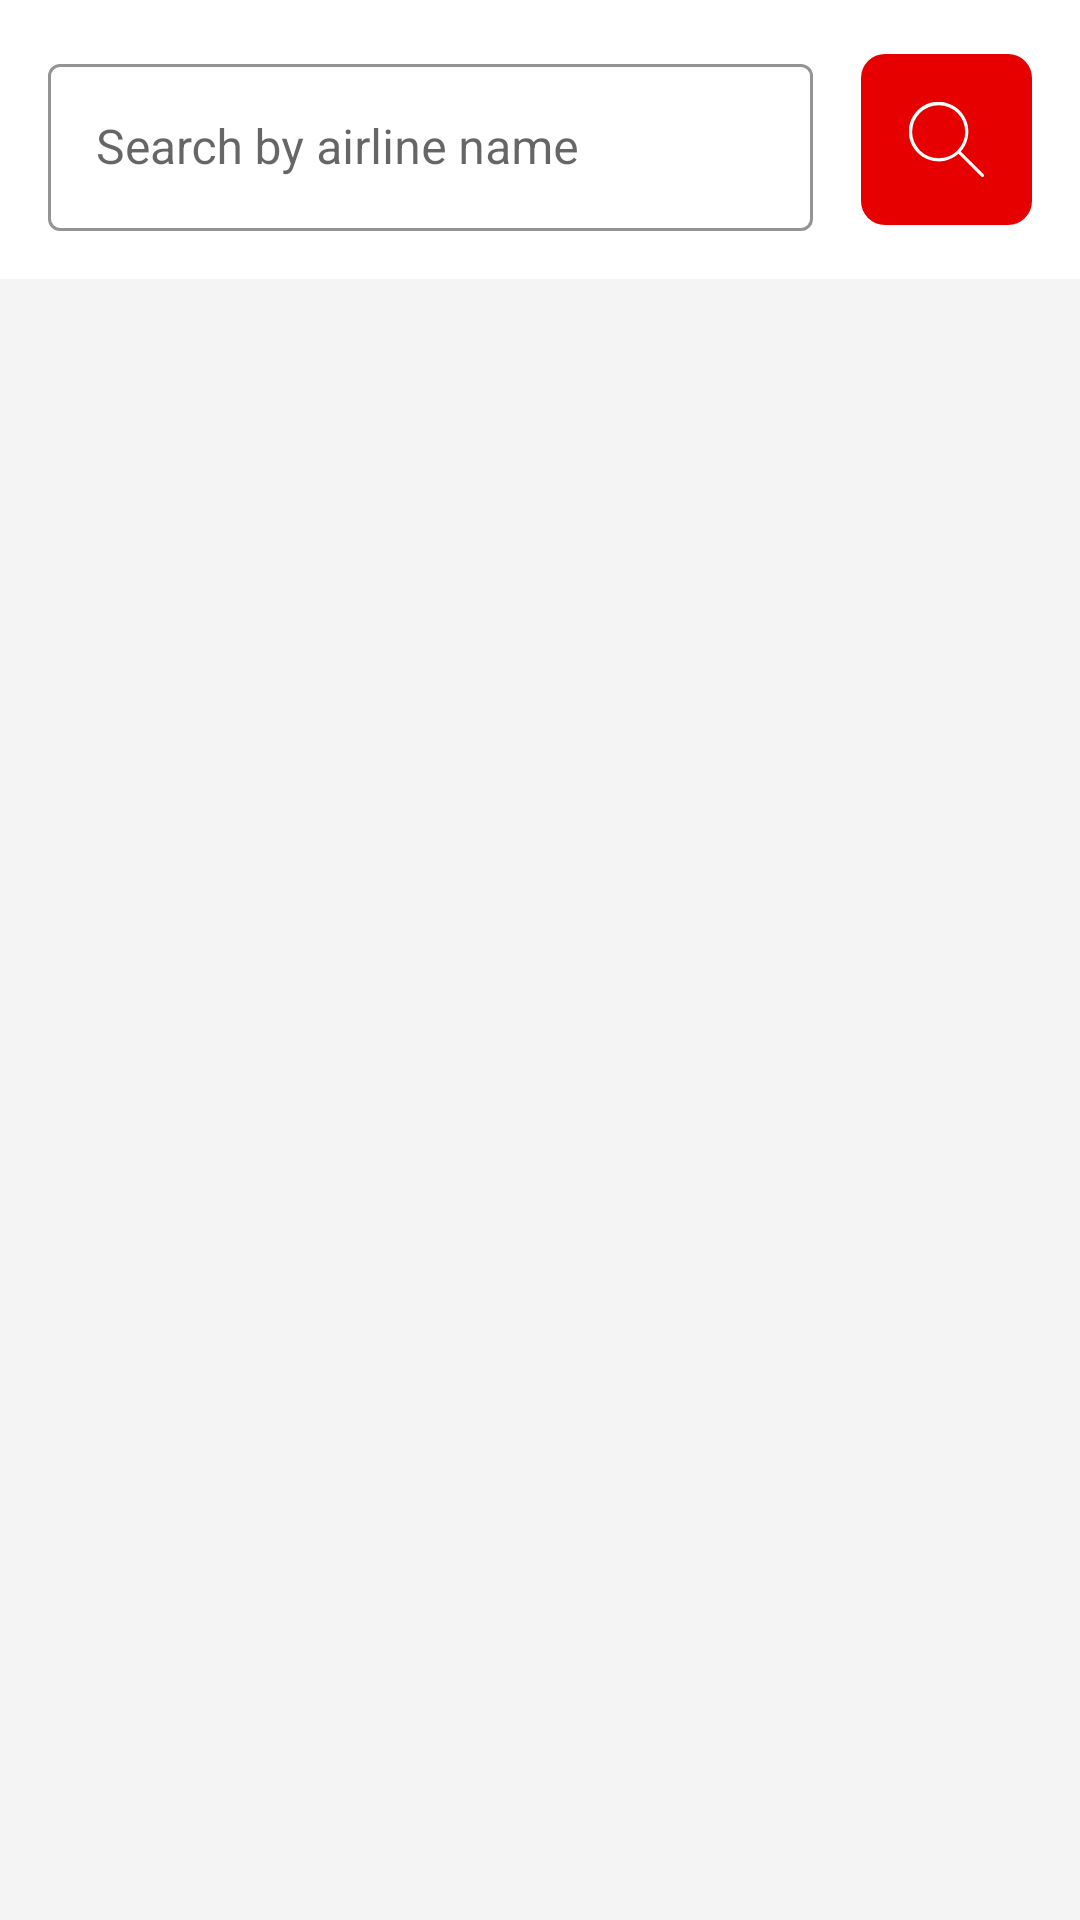

Icon click points for this 1080w x 1920h phone screenshot, format point (x, y):
Search airlines by name: point (946, 139)
